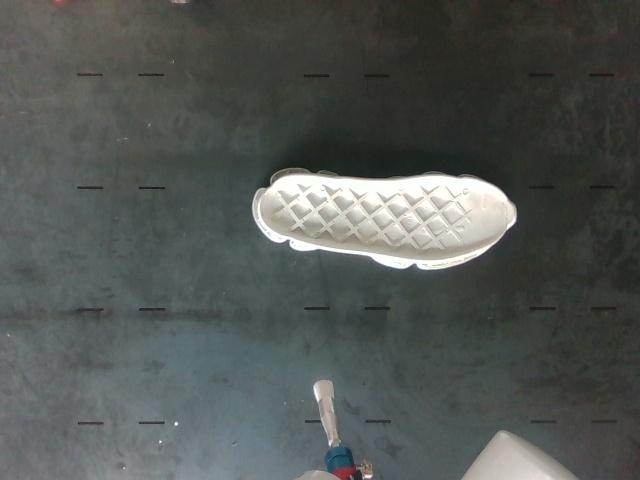shoes: (259, 173, 514, 260)
